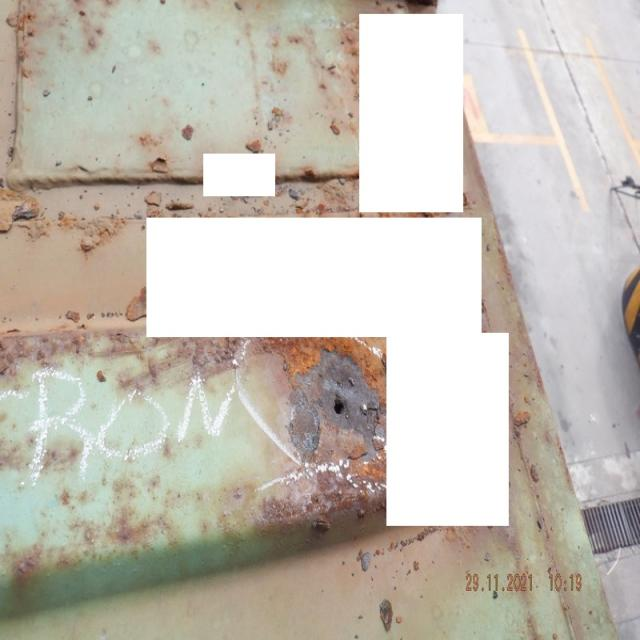hole: (290, 348, 389, 469)
